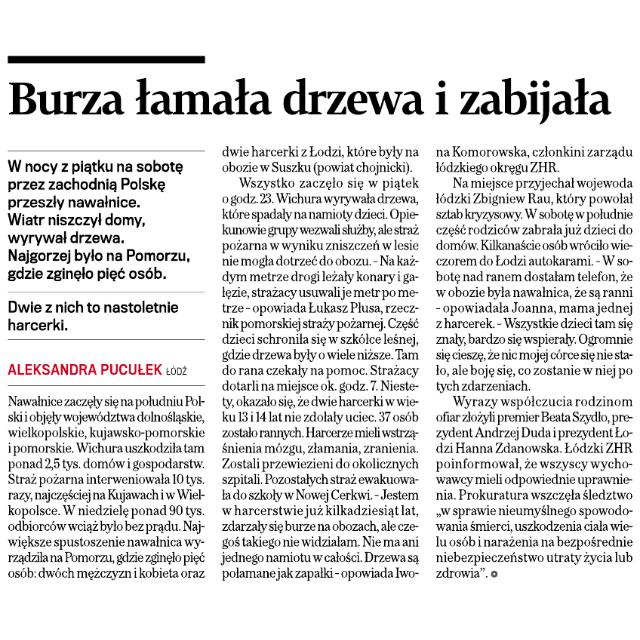author: (3, 356, 163, 380)
body: (426, 142, 640, 582), (218, 142, 422, 582), (3, 390, 213, 584)
lead: (2, 154, 208, 338)
title: (5, 66, 622, 132)
